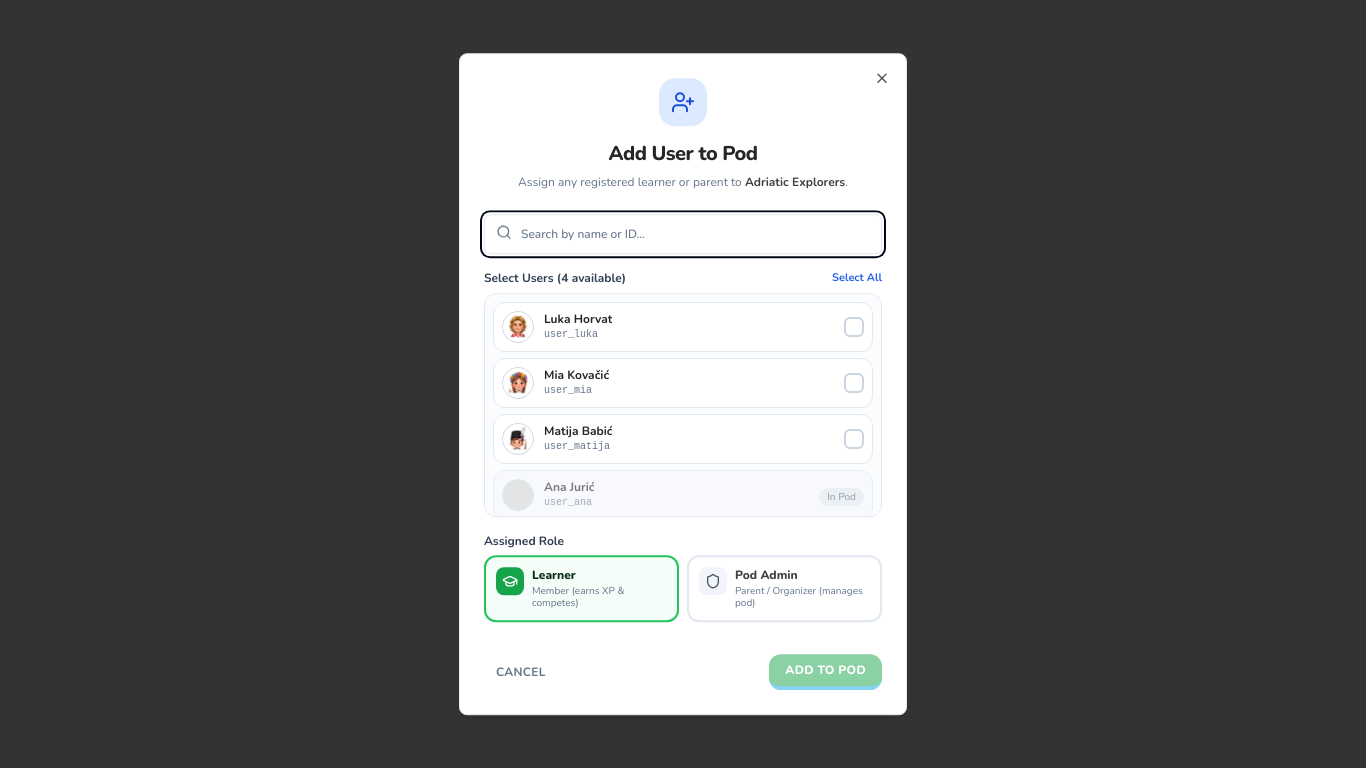
Test: <AddMemberToPodModal /> State Machine & Selection Logic › toggles squircle checkbox selection when clicking eligible users
This screenshot has width=1366, height=768.
Expected: the text "selected" is not shown
Click the button "Luka Horvat user_luka".
click(518, 327)  # box [493,302,873,352]
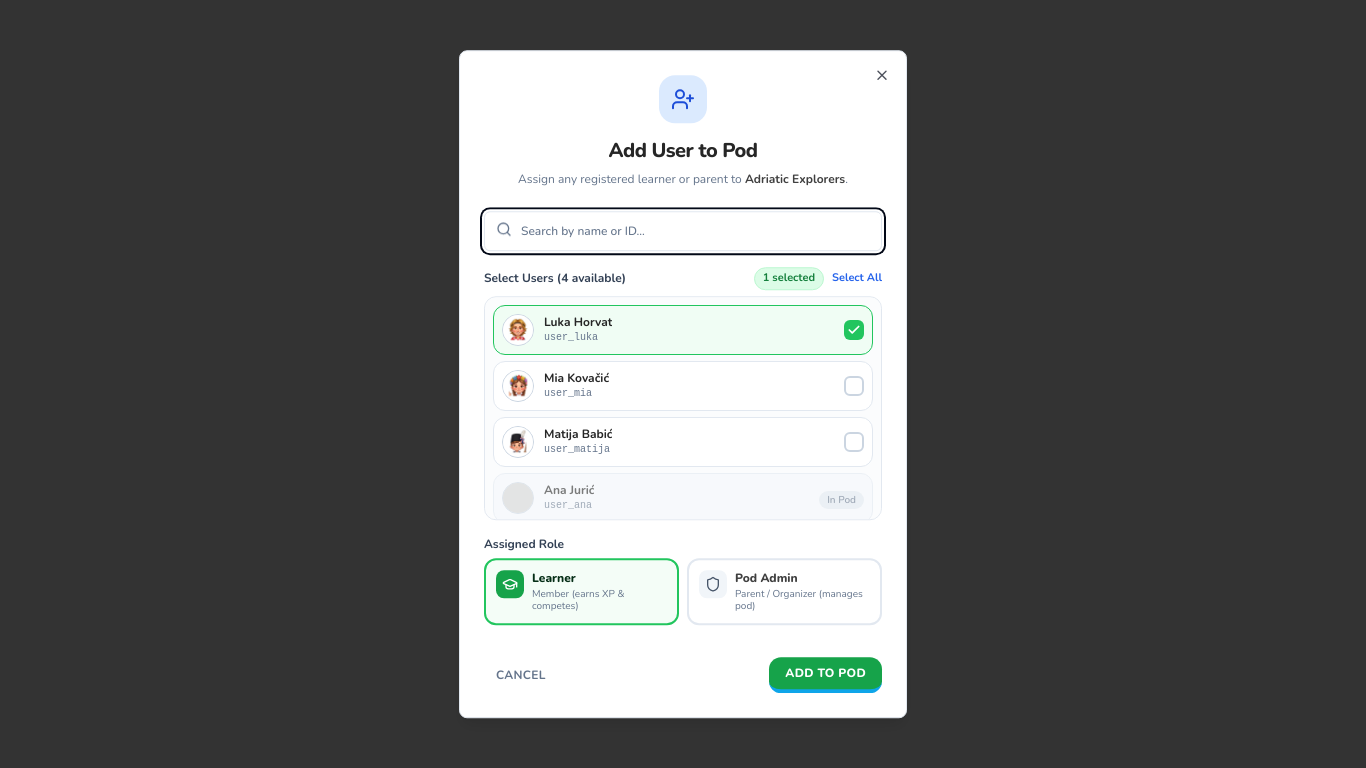
Expected: the text "1 selected" is shown, [754,267,824,290]
Note: Click Mia Kovačić
Click the button "Mia Kovačić user_mia".
click(518, 386)  # box [493,361,873,411]
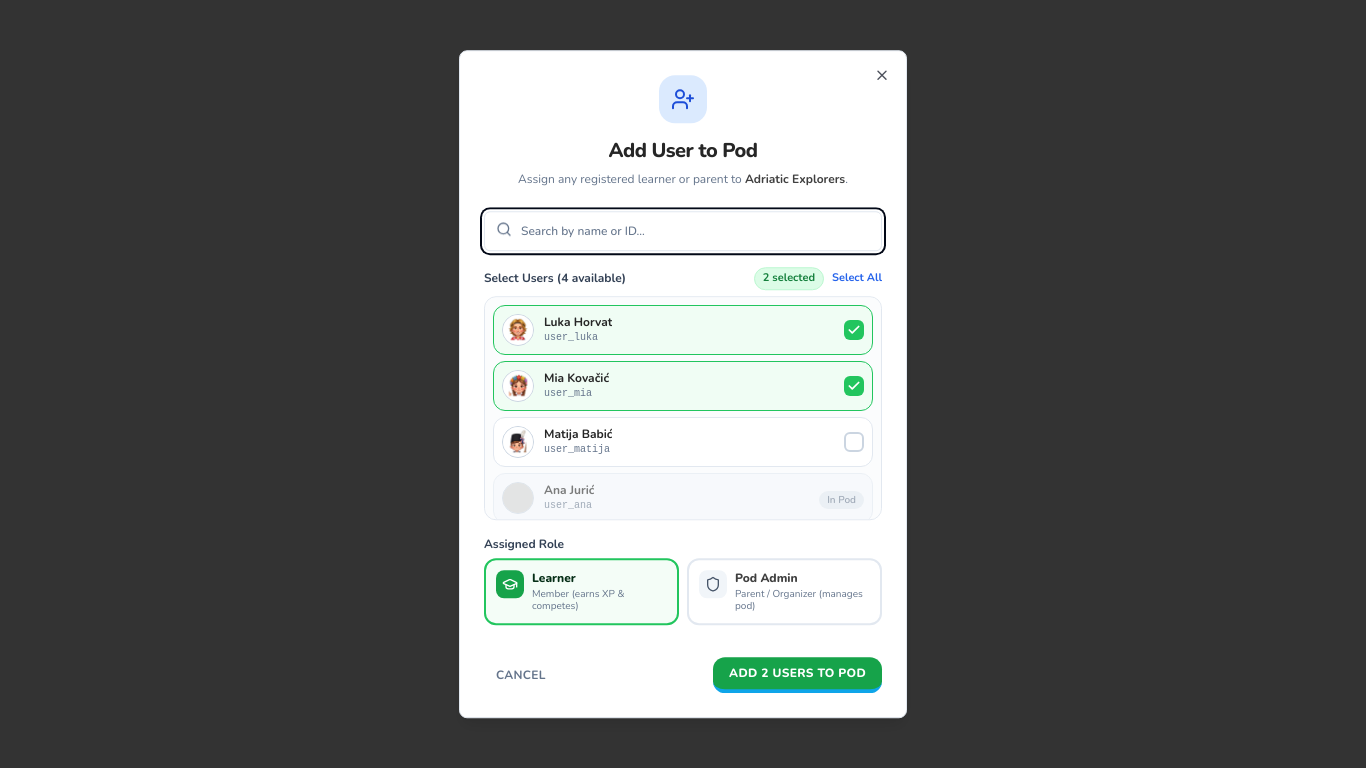
Expected: the text "2 selected" is shown, [754,267,824,290]
Note: Click Luka again to deselect
Click the button "Luka Horvat user_luka".
click(518, 330)  # box [493,305,873,355]
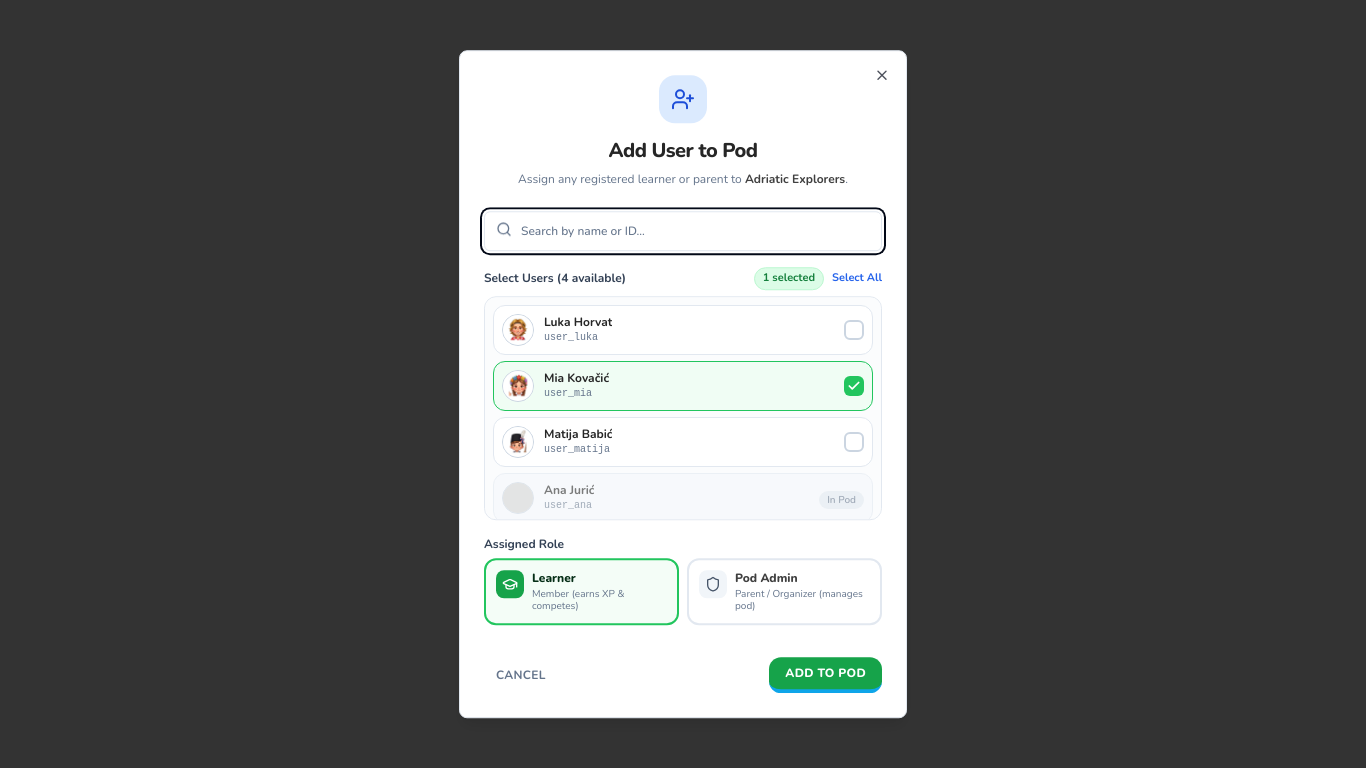
Expected: the text "1 selected" is shown, [754,267,824,290]
